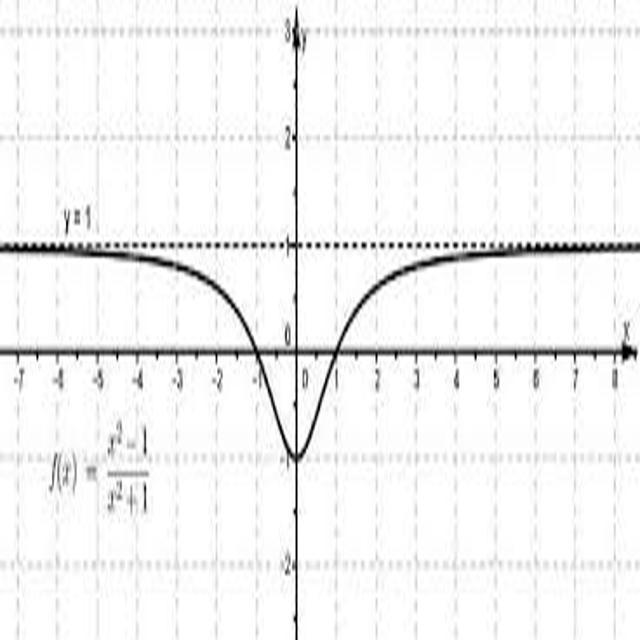axis: (0, 345, 640, 361), (292, 0, 302, 640)
